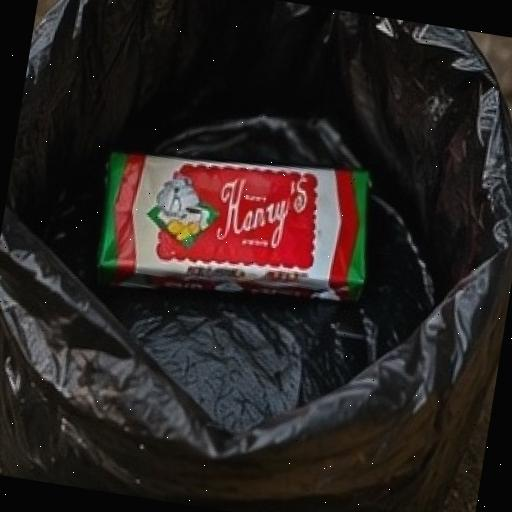golden: (27, 86, 495, 370)
